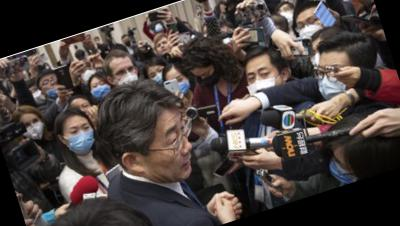mask_weared_incorrect: (39, 71, 63, 99)
with_mask: (310, 56, 355, 104), (241, 60, 287, 105), (322, 139, 361, 187), (61, 119, 101, 160), (18, 113, 50, 146), (293, 13, 326, 43), (166, 71, 195, 101), (194, 66, 225, 92), (111, 63, 139, 88), (274, 3, 298, 30), (88, 76, 114, 100), (145, 65, 170, 88), (306, 46, 327, 70), (29, 84, 49, 106), (79, 64, 100, 83), (152, 21, 165, 34), (121, 36, 133, 47), (195, 5, 203, 13)
without_mask: (130, 111, 204, 191), (69, 98, 96, 124), (155, 37, 173, 57)
